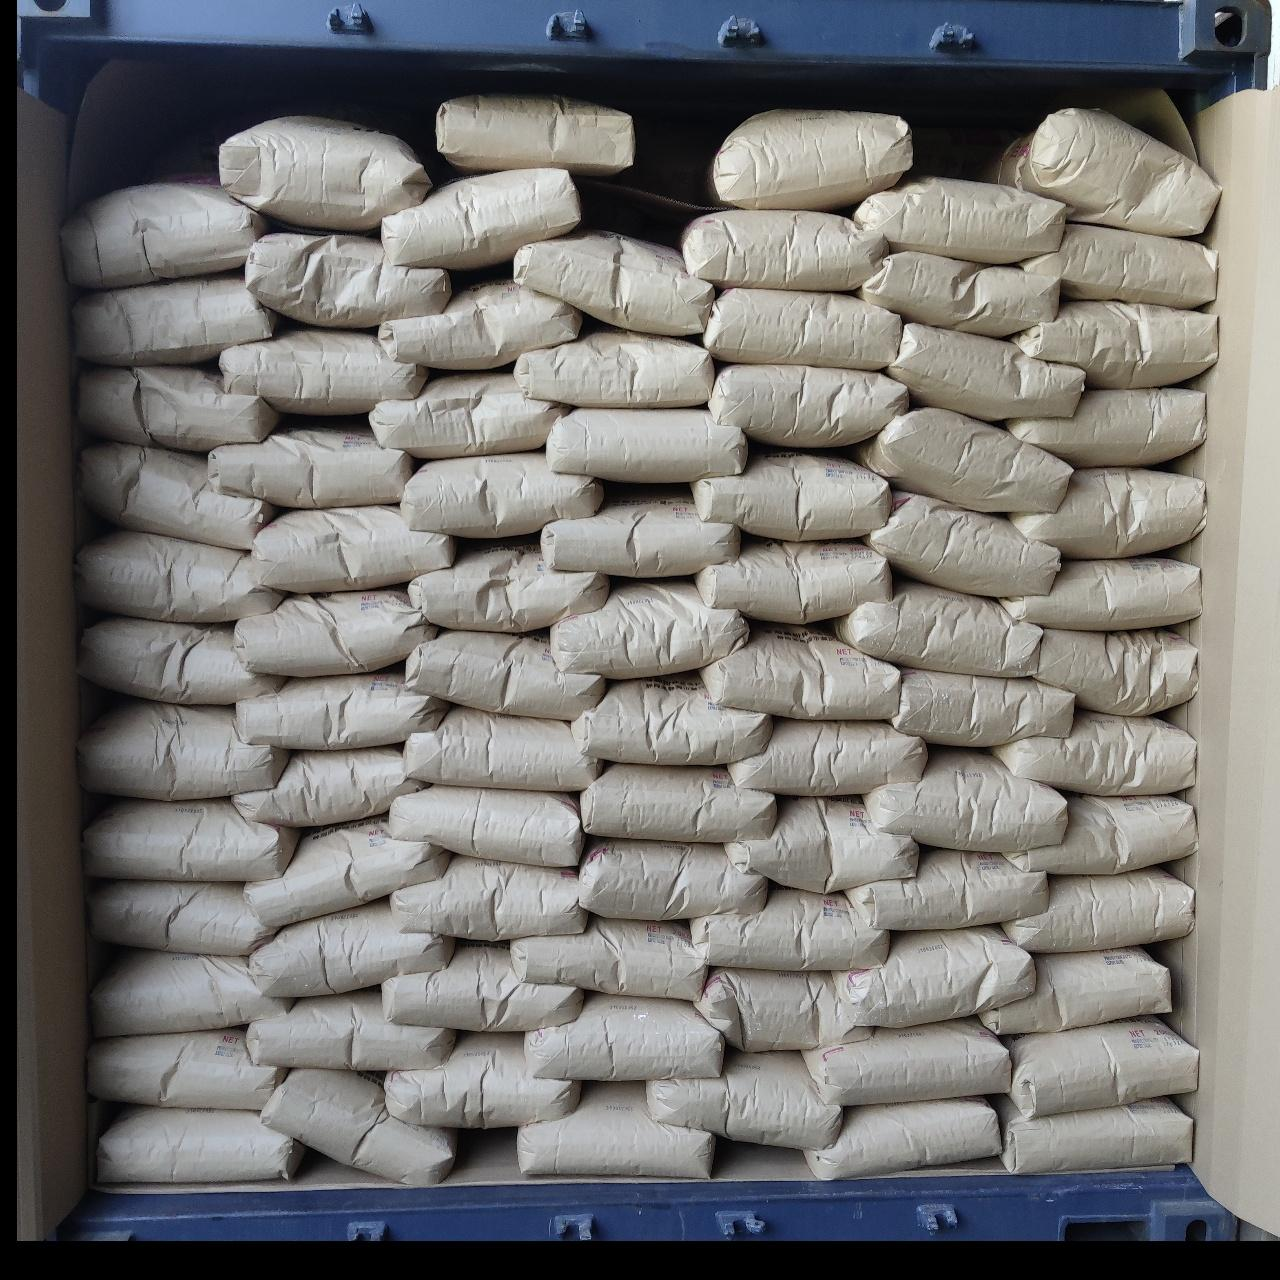sack: (976, 108, 1220, 234), (222, 116, 430, 230), (62, 178, 270, 286), (852, 408, 1070, 510), (263, 1070, 454, 1182), (248, 818, 445, 926), (79, 697, 286, 798), (79, 442, 274, 549), (515, 232, 714, 334), (866, 492, 1058, 595), (382, 170, 580, 270), (1002, 1017, 1198, 1118), (250, 900, 454, 996), (866, 748, 1062, 847), (710, 110, 910, 207), (832, 578, 1039, 672), (246, 232, 450, 326), (76, 530, 282, 622), (74, 272, 278, 365), (552, 580, 745, 678), (888, 322, 1082, 420), (702, 624, 894, 719), (840, 928, 1030, 1024), (648, 1051, 838, 1148), (220, 326, 428, 414), (386, 1034, 580, 1126), (852, 178, 1064, 263), (410, 538, 606, 629), (518, 1084, 714, 1176), (802, 1019, 1010, 1103), (574, 674, 768, 764), (408, 629, 604, 719), (542, 486, 740, 574), (384, 942, 583, 1030), (84, 798, 300, 878), (380, 280, 580, 366), (694, 448, 888, 536), (246, 508, 454, 590), (210, 424, 414, 508), (238, 588, 436, 674), (730, 798, 915, 890), (1020, 222, 1214, 308), (248, 988, 454, 1070), (79, 618, 278, 702), (91, 949, 290, 1034), (858, 252, 1060, 334), (238, 668, 445, 748), (526, 994, 722, 1078), (1012, 470, 1204, 556), (406, 706, 600, 790), (79, 366, 278, 448), (696, 538, 890, 622), (1012, 302, 1216, 382), (402, 452, 600, 535), (88, 1028, 286, 1110), (372, 372, 564, 456), (708, 365, 908, 445), (392, 855, 586, 938), (994, 710, 1196, 790), (515, 324, 710, 406), (682, 210, 886, 288), (844, 847, 1046, 926), (980, 948, 1170, 1032), (515, 915, 706, 998), (438, 94, 634, 173), (1006, 388, 1204, 467), (692, 886, 886, 966), (1002, 869, 1192, 949), (100, 1107, 304, 1182), (704, 288, 900, 366), (694, 968, 873, 1051), (806, 1098, 998, 1176), (730, 719, 926, 794), (388, 787, 583, 862), (234, 745, 420, 824), (546, 408, 745, 481), (1002, 556, 1198, 629), (1006, 796, 1194, 872), (580, 840, 765, 918), (583, 764, 774, 838), (1032, 628, 1196, 714), (1000, 1098, 1190, 1172), (90, 880, 278, 954), (890, 668, 1070, 744)
